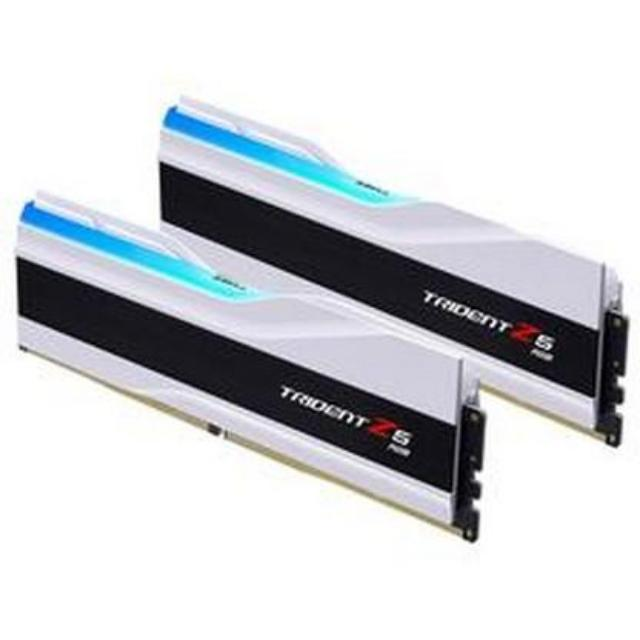RAM: (6, 95, 640, 552)
